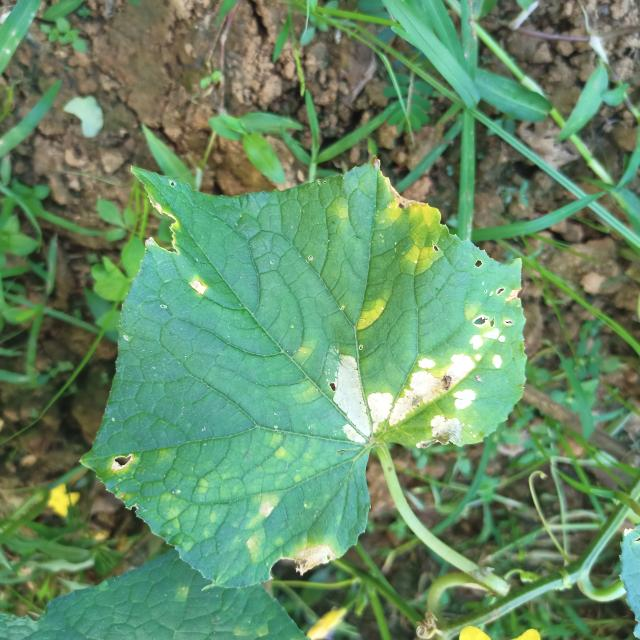disease_cucumber: (328, 298, 530, 454), (182, 447, 290, 557), (370, 195, 447, 280), (351, 290, 392, 334)
